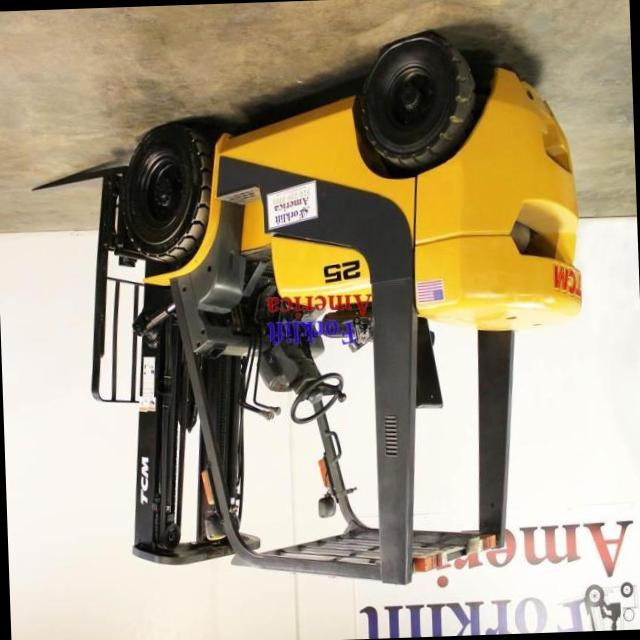forklift: (53, 27, 606, 604)
